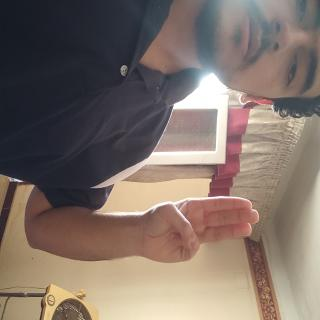THA: (144, 76, 202, 238)
